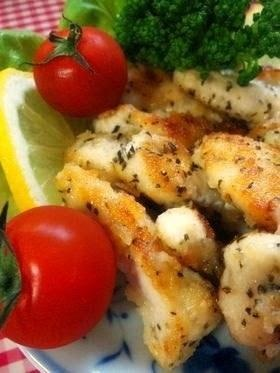background: (0, 0, 122, 216)
